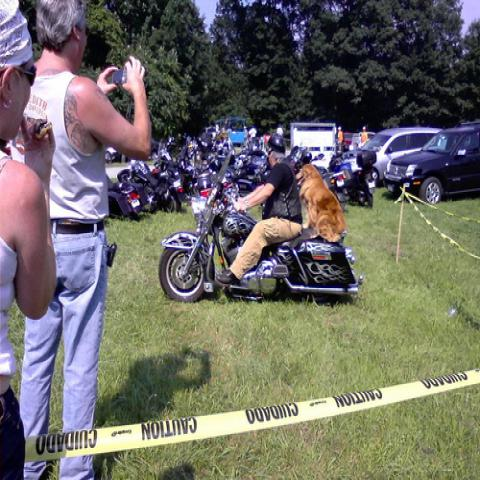car: (383, 123, 480, 204), (342, 126, 440, 176), (215, 118, 245, 144), (346, 132, 376, 147), (106, 147, 128, 164)
motorcycle: (156, 139, 368, 310), (117, 160, 188, 214), (235, 146, 312, 194), (331, 149, 380, 211), (107, 175, 149, 218), (315, 164, 348, 213), (180, 158, 208, 192)
